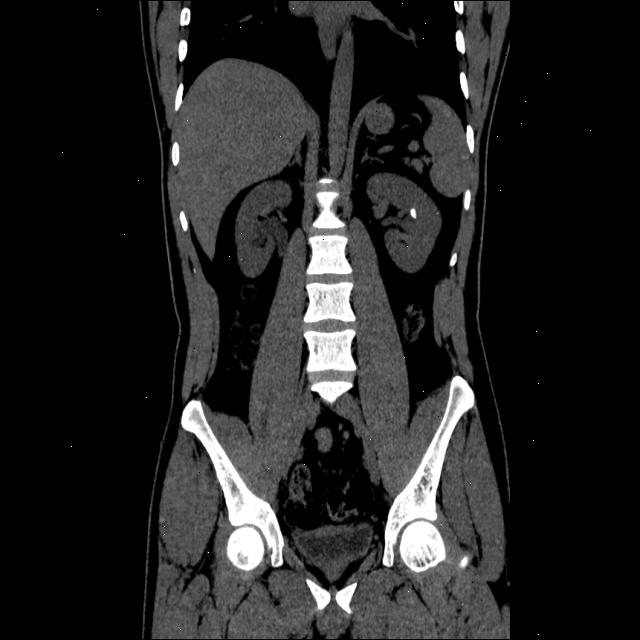kidneystone: (410, 207, 416, 219)
